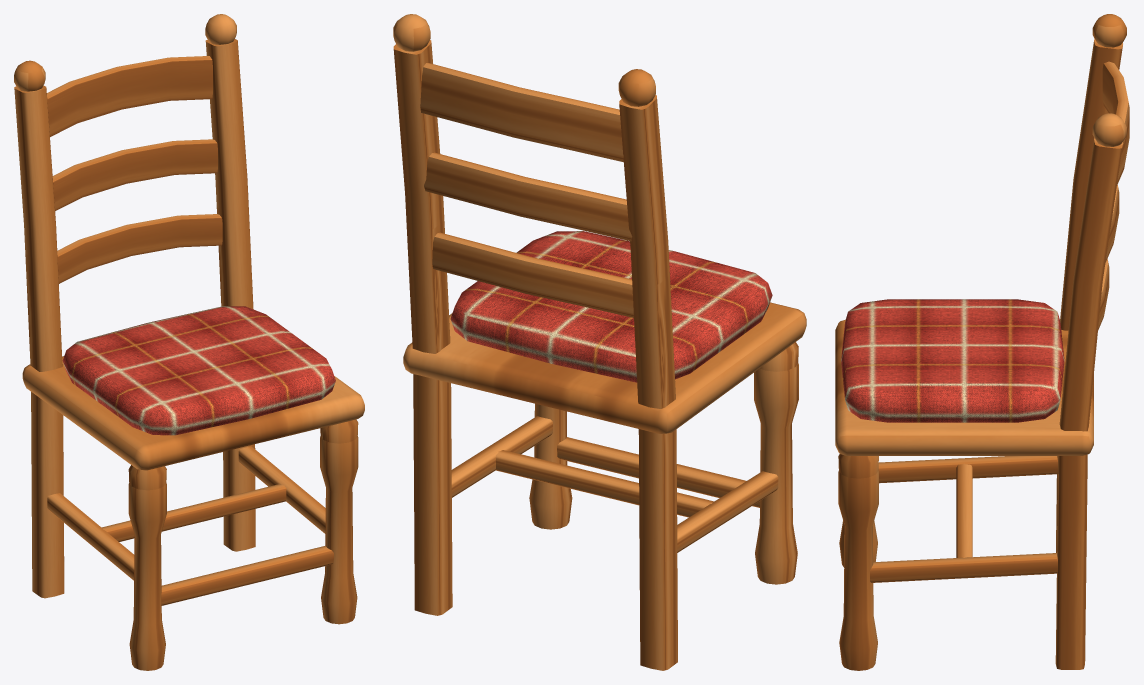
File: dining_chair.glb
3 renders of one model, left to right at view 1: azimuth 30°, elevation 25°; view 2: azimuth 150°, elevation 25°; view 3: azimuth 270°, elevation 25°, orthographic. The views are drawn at different scales.
Visible parts, largest first — view 1: model; view 2: model; view 3: model.
Boxes of the visible parts, x1=… form: model: x1=14, y1=14, x2=364, y2=670; model: x1=393, y1=14, x2=806, y2=670; model: x1=835, y1=14, x2=1129, y2=670.
Size of the model in its own units: 0.48 by 1.03 by 0.501.
2 materials, 2 textured.
